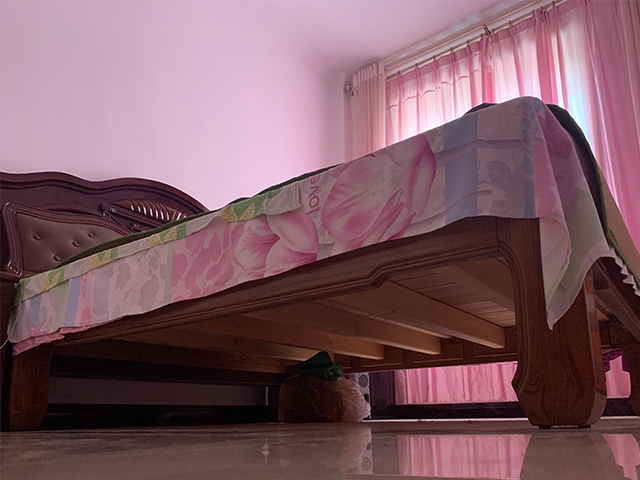bed: (1, 95, 640, 433)
